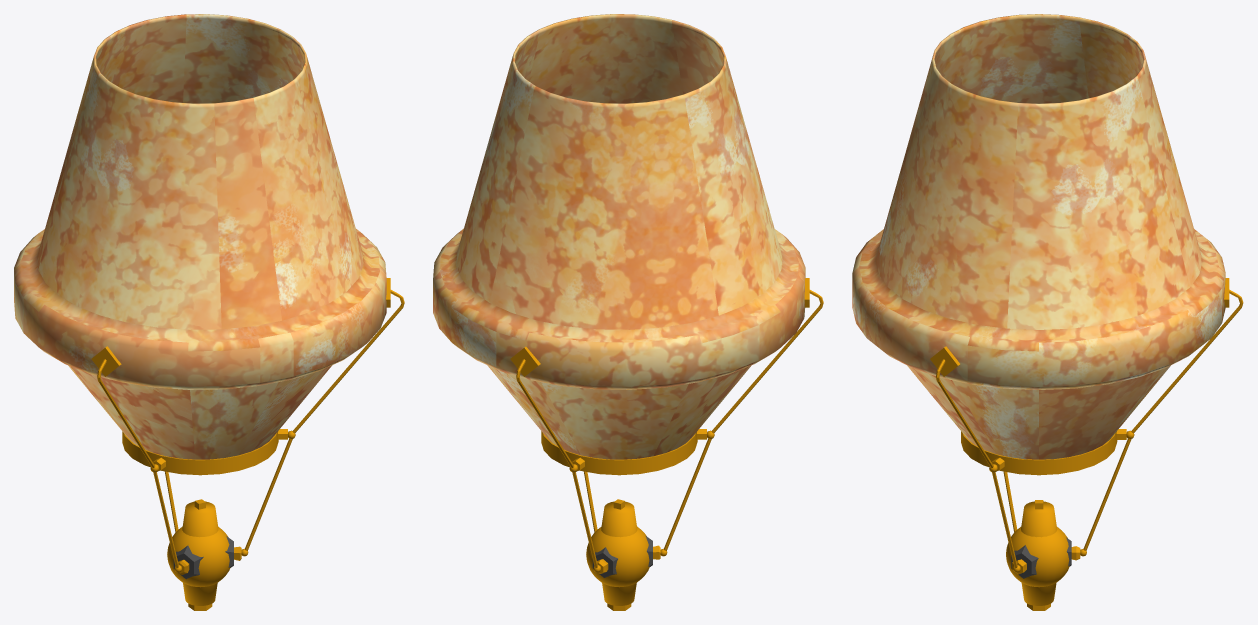
The model's file is lantern_1.fbx.
The picture shows the model from 3 angles, left to right: view 1: azimuth 30°, elevation 25°; view 2: azimuth 150°, elevation 25°; view 3: azimuth 270°, elevation 25°; orthographic projection.
Visible parts, largest first — view 1: Cylinder, Cube.009; view 2: Cylinder, Cube.009; view 3: Cylinder, Cube.009.
Part boxes in pixels (x1,y1,x2,y2): Cylinder: [14, 14, 386, 459]; Cube.009: [91, 278, 404, 610]; Cylinder: [433, 14, 805, 459]; Cube.009: [510, 278, 823, 610]; Cylinder: [852, 14, 1225, 459]; Cube.009: [930, 278, 1243, 610].
Bounding box in the file's own units: 180 × 291 × 189.
